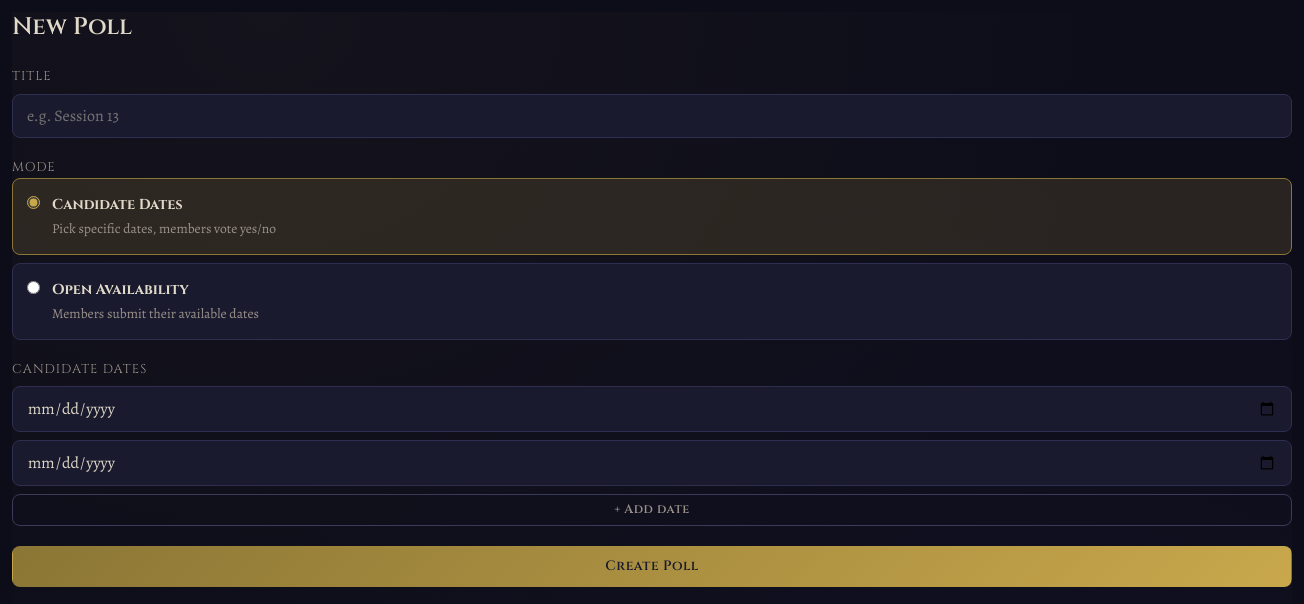
CreatePoll › hides date inputs when switching to open mode
Click the text "Open Availability" at (120, 289), box [52,280,189,299]
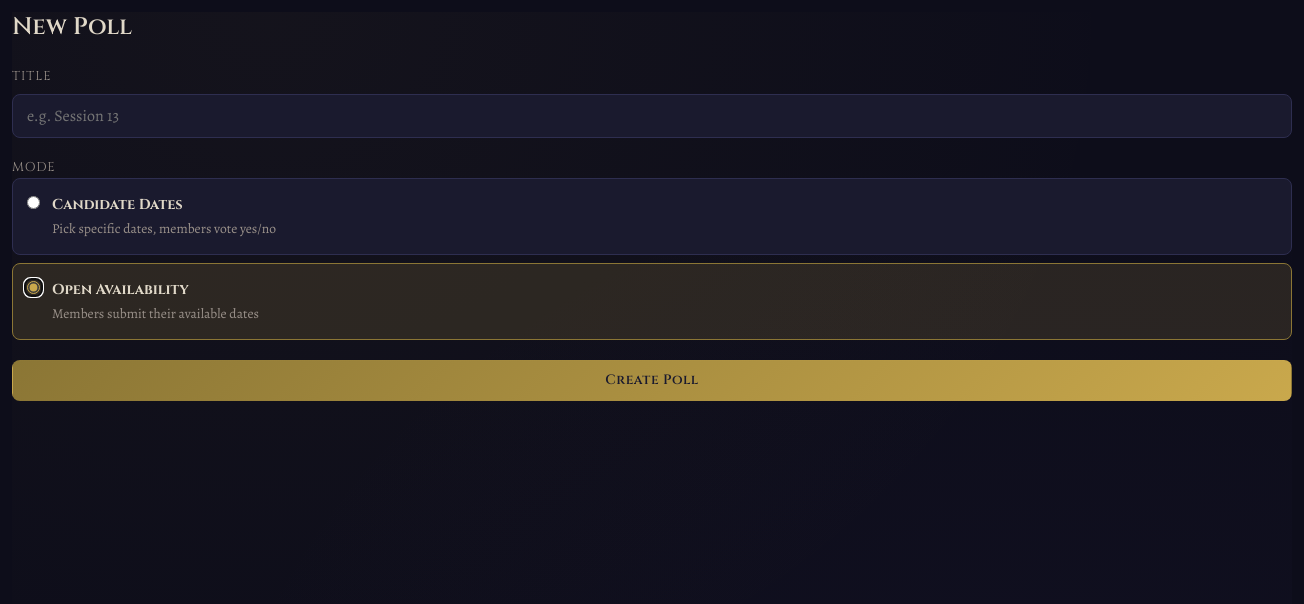
Check: no date fields are shown
